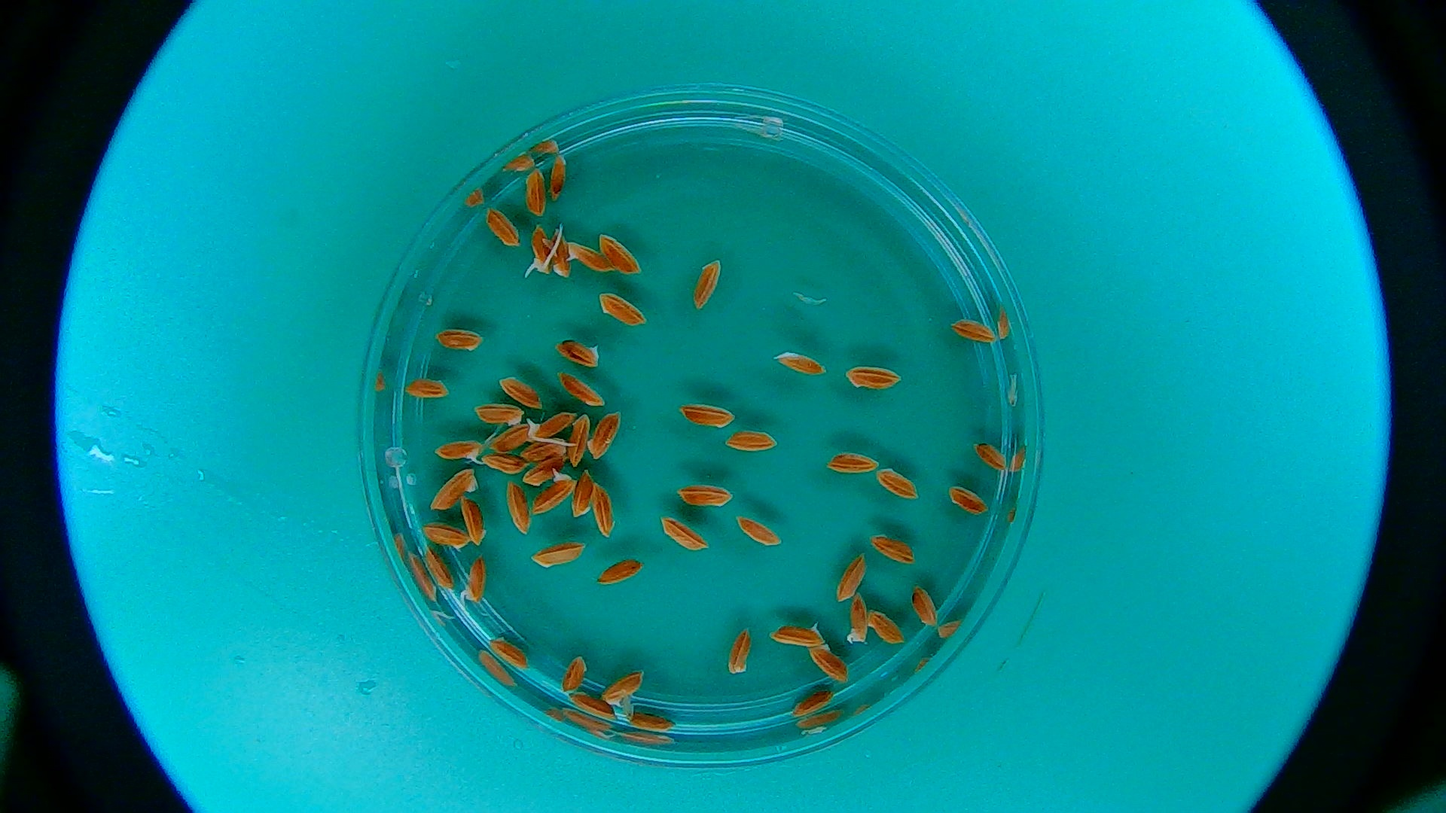no: (593, 227, 651, 283), (425, 467, 481, 512), (584, 406, 625, 461), (840, 361, 908, 394), (833, 540, 868, 604), (594, 291, 650, 330), (675, 394, 737, 429), (658, 514, 711, 554), (496, 369, 547, 410), (587, 477, 619, 542), (414, 544, 456, 592), (558, 371, 609, 410), (690, 254, 725, 310), (826, 443, 880, 479), (528, 538, 588, 570), (944, 480, 992, 520), (869, 529, 920, 566), (601, 669, 645, 711), (806, 643, 850, 685), (765, 617, 825, 647), (876, 467, 923, 505), (428, 326, 487, 356), (721, 428, 782, 457), (457, 492, 488, 549), (484, 206, 523, 251), (517, 451, 567, 486), (568, 689, 618, 724), (488, 630, 529, 672), (505, 478, 534, 537), (908, 583, 941, 634), (726, 623, 755, 681), (417, 522, 471, 553), (554, 336, 603, 370), (971, 434, 1012, 474), (734, 513, 778, 550), (675, 481, 731, 510), (864, 608, 905, 646), (950, 314, 996, 347), (625, 709, 679, 737), (474, 400, 526, 429), (524, 165, 550, 221), (565, 411, 591, 467), (488, 422, 532, 455), (773, 349, 823, 378), (402, 373, 450, 403), (596, 555, 642, 586), (480, 449, 529, 477), (519, 434, 568, 462), (789, 687, 832, 717), (570, 467, 594, 520), (560, 652, 589, 694), (549, 230, 572, 279), (547, 153, 569, 202)
yes: (529, 466, 577, 516), (523, 405, 577, 442), (563, 241, 610, 275), (461, 554, 489, 608), (845, 591, 869, 646), (432, 439, 484, 464), (529, 224, 553, 278)
